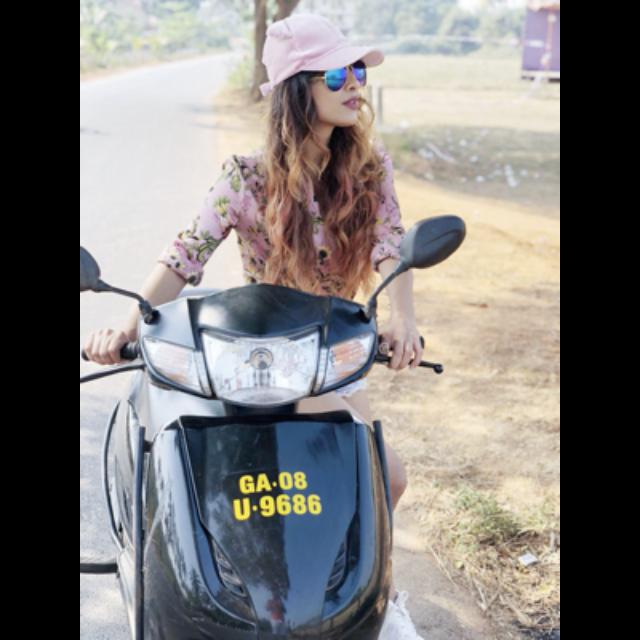Without Helmet: (248, 2, 392, 142)
